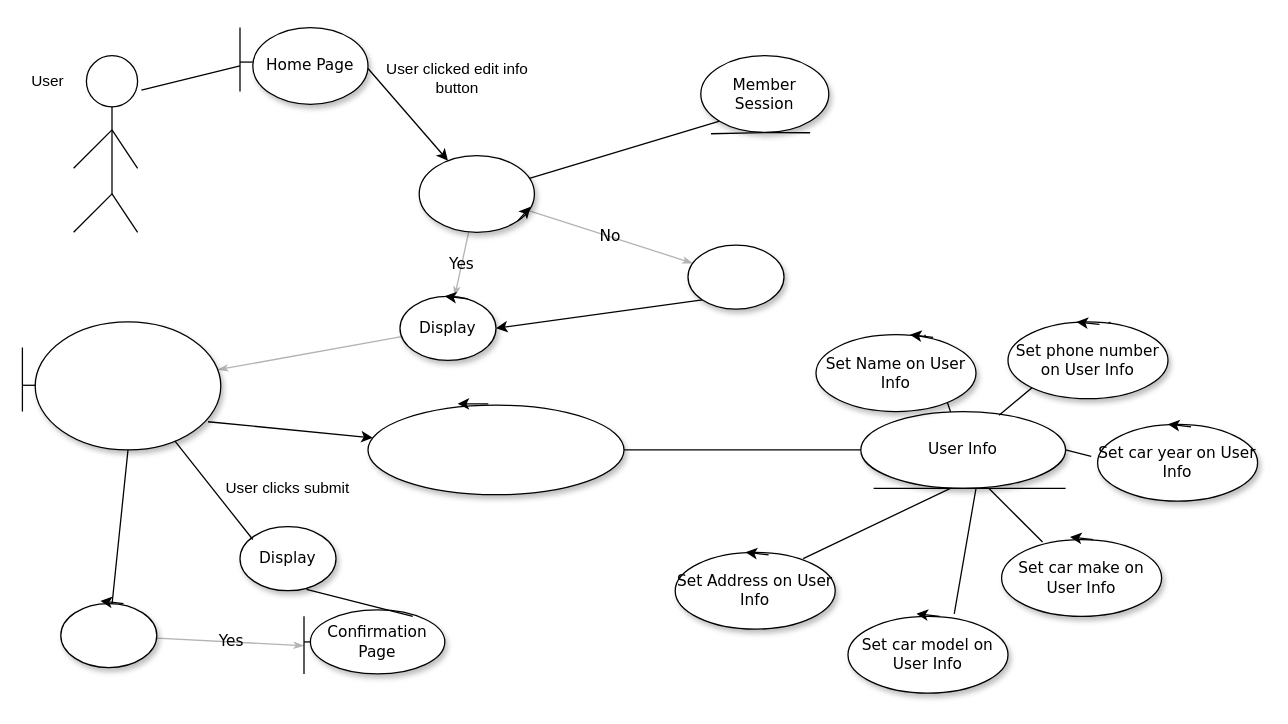
This 1288x724 diagram has some shape labels left out. The shapes that lost their labels are listed below. From the top down, each one's centre as x and y in pixels, then its label:
point (477, 195): User Logged in?
point (737, 278): Login
point (128, 387): Edit Information Page
point (497, 451): Enter Name, Address, car model, make, year and phone number
point (109, 636): Valid input
